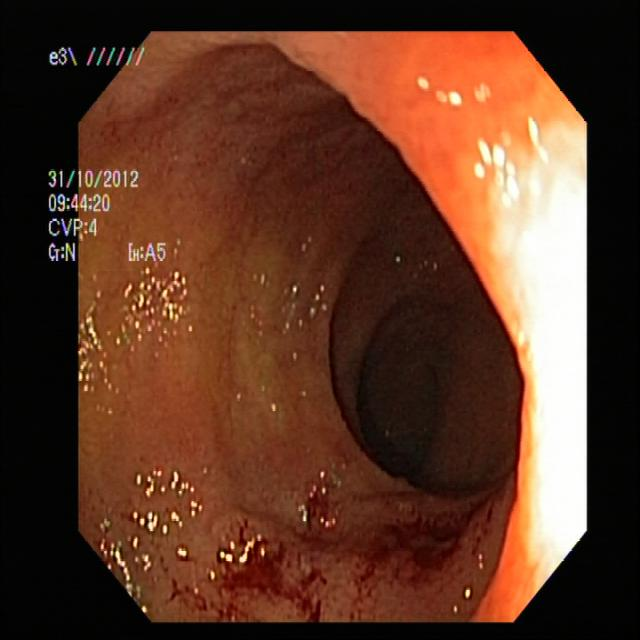ulcerative-colities: (65, 60, 436, 276), (146, 414, 513, 629)
